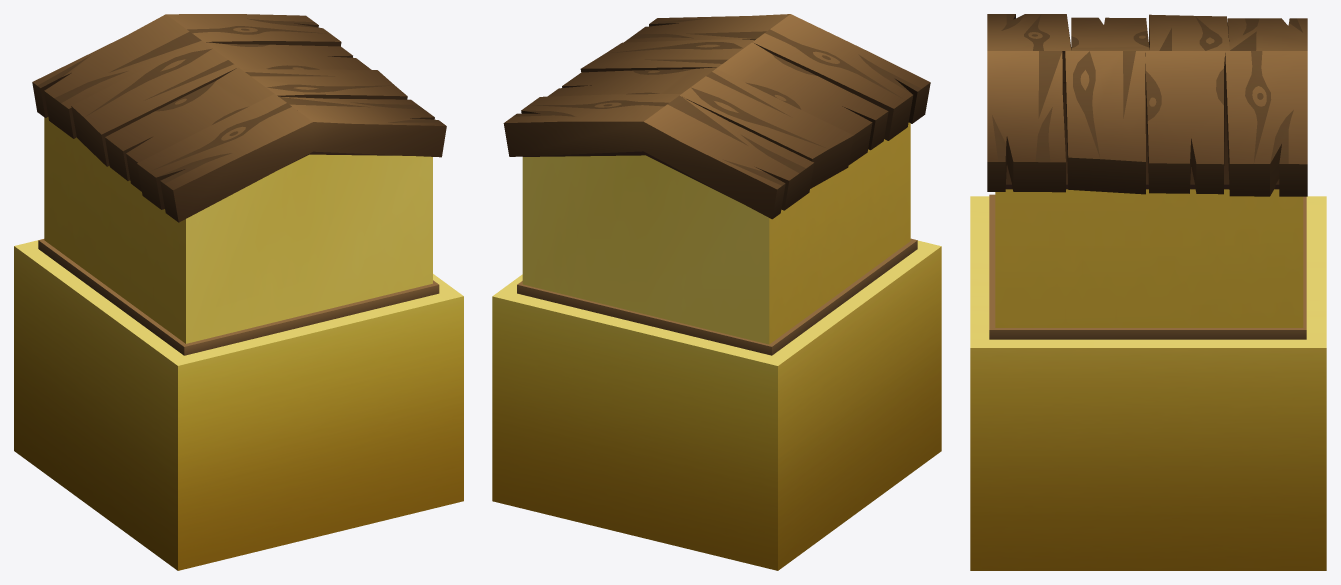
Rendered from Building_Main_07B.fbx.
The picture shows the model from 3 angles, left to right: view 1: azimuth 30°, elevation 25°; view 2: azimuth 150°, elevation 25°; view 3: azimuth 270°, elevation 25°; orthographic projection. The views are drawn at different scales.
Visible parts, largest first — view 1: Building_Main_07B; view 2: Building_Main_07B; view 3: Building_Main_07B.
Boxes of the visible parts, bbox=[...] form: Building_Main_07B: bbox=[14, 14, 463, 570]; Building_Main_07B: bbox=[492, 14, 941, 570]; Building_Main_07B: bbox=[970, 14, 1326, 570].
Size of the model in its own units: 568 by 775 by 564.
Materials: 2 (2 with a texture image).
